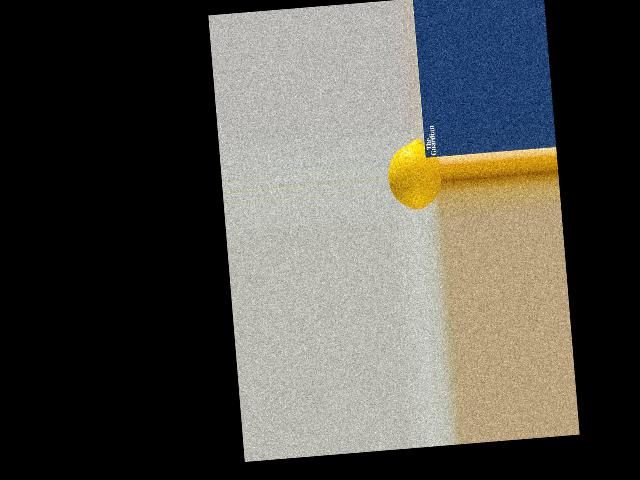lemon: (385, 135, 444, 217)
